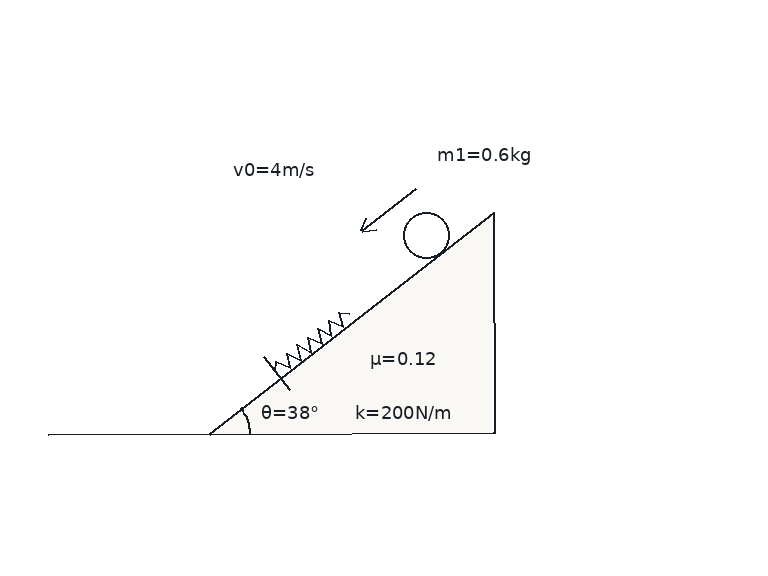ball: (401, 210, 451, 260)
ramp: (208, 210, 495, 435)
spring: (273, 310, 351, 373)
